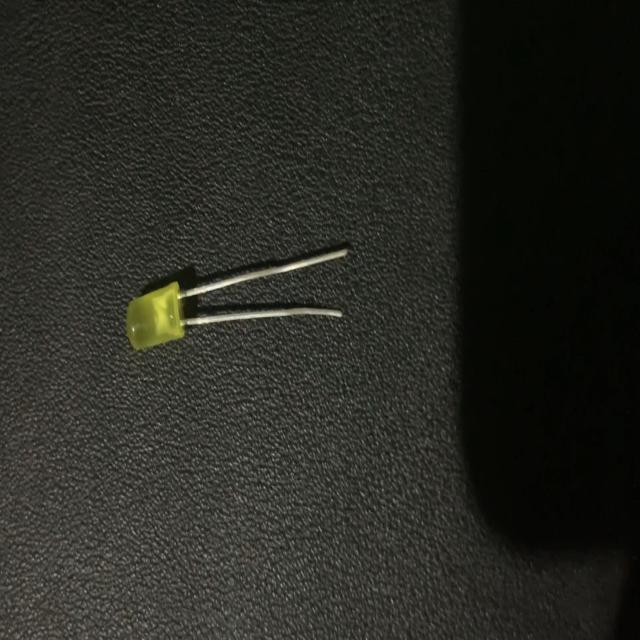LED: (123, 242, 350, 355)
